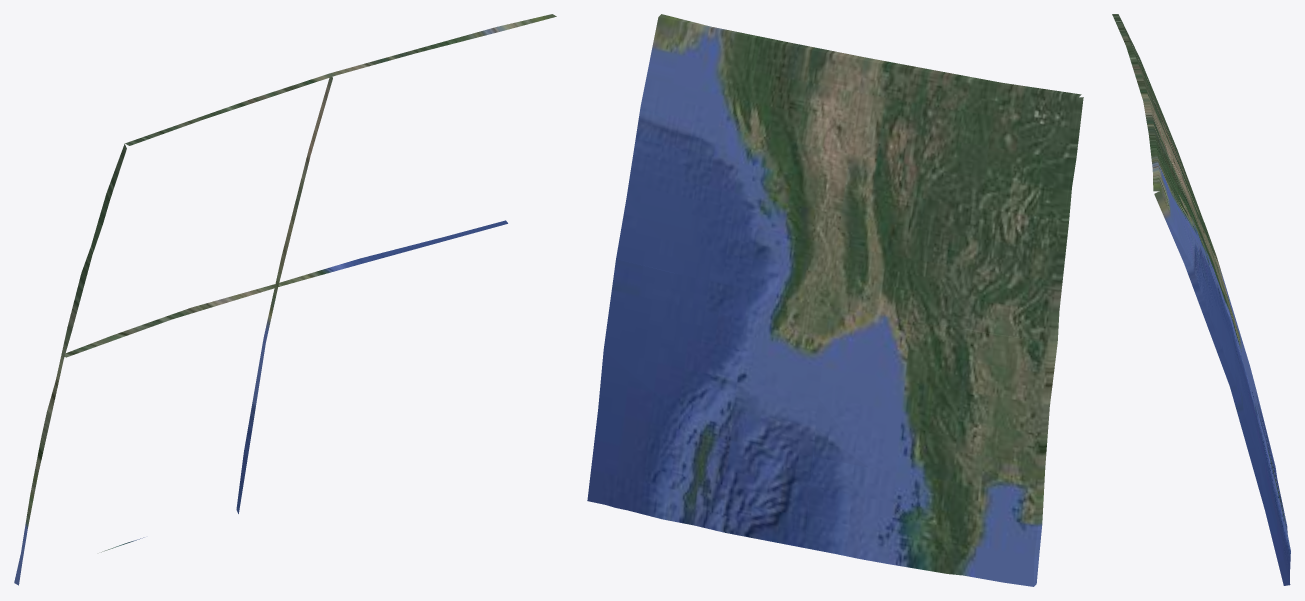
3 views of the same model, side by side, from view 1: azimuth 30°, elevation 25°; view 2: azimuth 150°, elevation 25°; view 3: azimuth 270°, elevation 25° (orthographic). The views are drawn at different scales.
Size of the model in its own units: 1235464 by 1208038 by 492133.
Materials: 1 (1 with a texture image).
